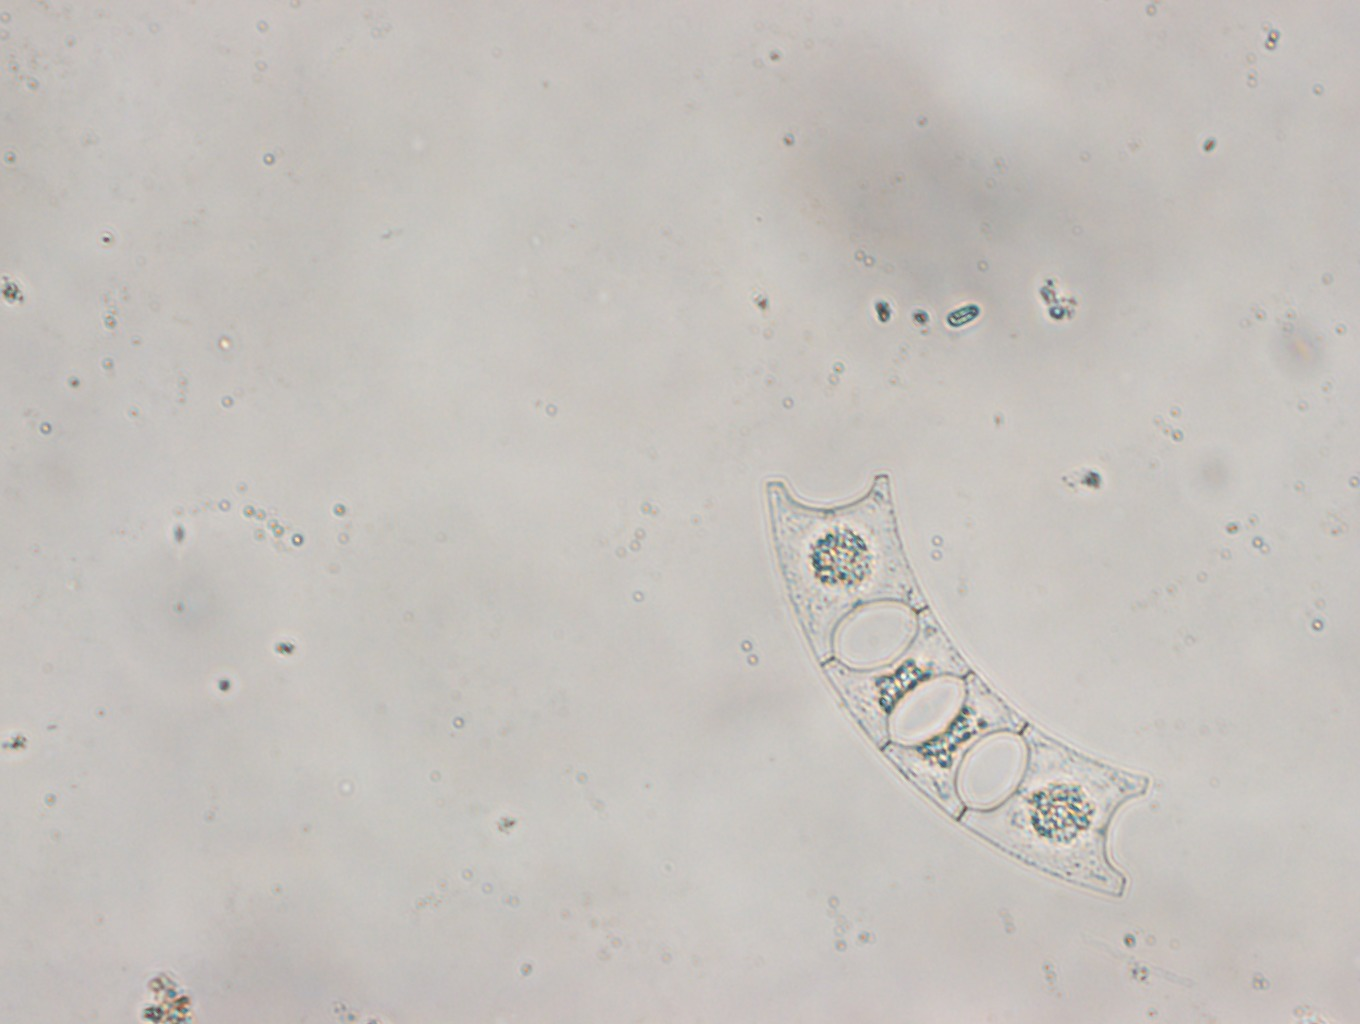eucampia: (763, 469, 1153, 905)
